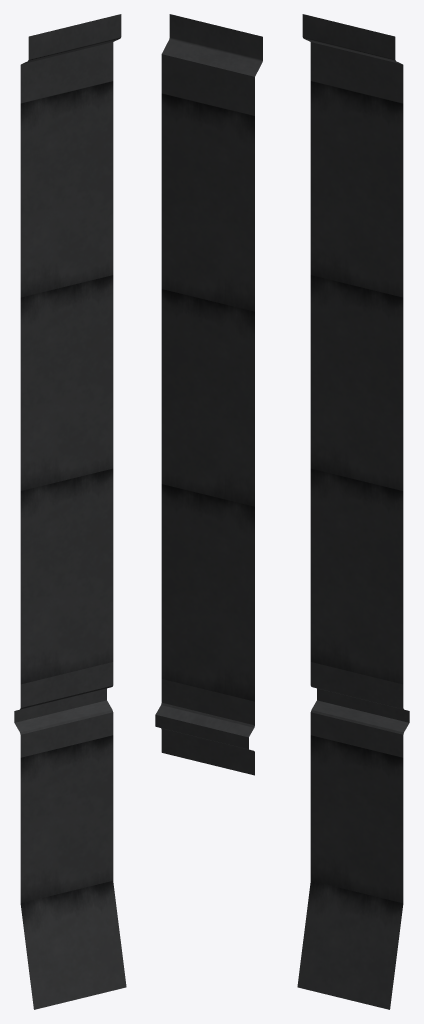
Rendered from M_Wall_Straight_2x20_v4.fbx.
3 views of the same model, side by side, from view 1: azimuth 30°, elevation 25°; view 2: azimuth 150°, elevation 25°; view 3: azimuth 330°, elevation 25° (orthographic).
Parts seen in each view (by area): view 1: Wall_Straight_2x20_v4; view 2: Wall_Straight_2x20_v4; view 3: Wall_Straight_2x20_v4.
Part boxes in pixels (x1,y1,x2,y2): Wall_Straight_2x20_v4: (14, 14, 126, 1009); Wall_Straight_2x20_v4: (155, 14, 262, 775); Wall_Straight_2x20_v4: (297, 14, 409, 1009).
Size of the model in its own units: 200 by 2000 by 73.02.
